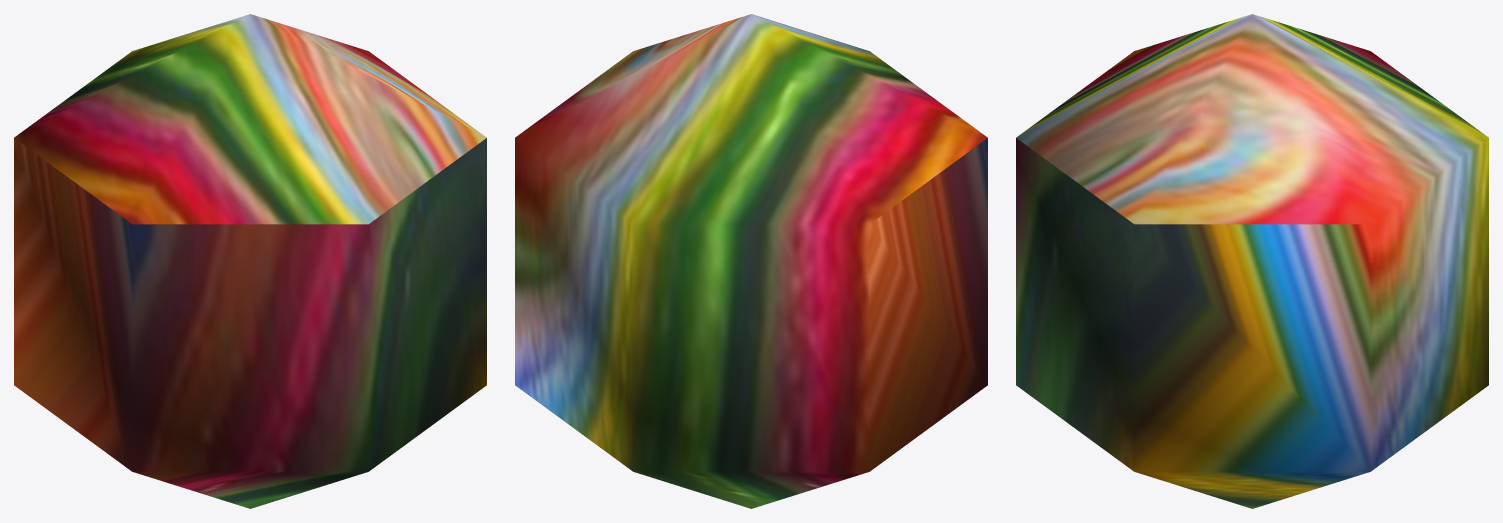
The model's file is marble_solitaire_A1.DAE.
3 views of the same model, side by side, from view 1: azimuth 30°, elevation 25°; view 2: azimuth 150°, elevation 25°; view 3: azimuth 270°, elevation 25° (orthographic).
Visible parts, largest first — view 1: Standard_solitaire; view 2: Standard_solitaire; view 3: Standard_solitaire.
Boxes of the visible parts, bbox=[...] form: Standard_solitaire: bbox=[14, 14, 486, 508]; Standard_solitaire: bbox=[515, 14, 987, 508]; Standard_solitaire: bbox=[1016, 14, 1488, 508].
Bounding box in the file's own units: 0.0381 × 0.044 × 0.0508.
1 material, 1 textured.
